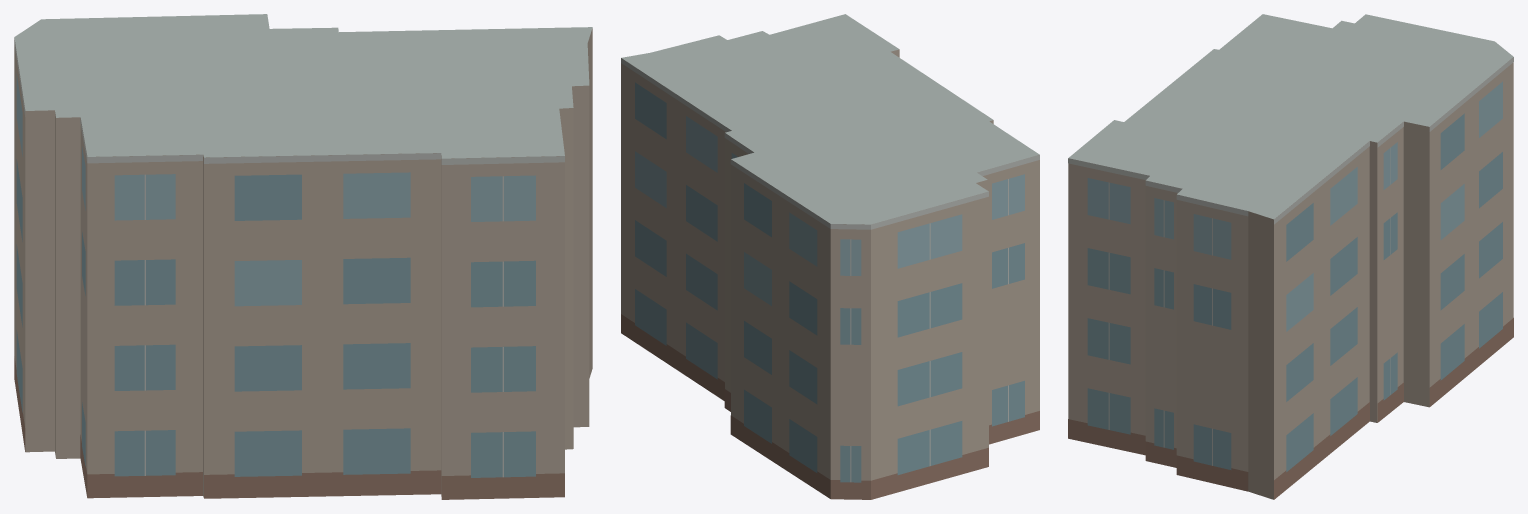
Rendered from survey-upis-32962836.glb.
The picture shows the model from 3 angles, left to right: view 1: azimuth 30°, elevation 25°; view 2: azimuth 150°, elevation 25°; view 3: azimuth 270°, elevation 25°; orthographic projection. The views are drawn at different scales.
Visible parts, largest first — view 1: survey-upis-32962836.tmp; view 2: survey-upis-32962836.tmp; view 3: survey-upis-32962836.tmp.
Boxes of the visible parts, x1,y1,x2,y2 form: survey-upis-32962836.tmp: (14,14,592,499); survey-upis-32962836.tmp: (621,14,1039,499); survey-upis-32962836.tmp: (1068,14,1513,499).
Size of the model in its own units: 20.38 by 12.97 by 18.68.
